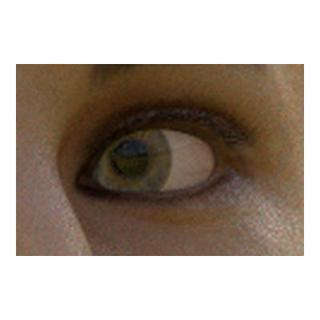pupil: (112, 141, 147, 176)
